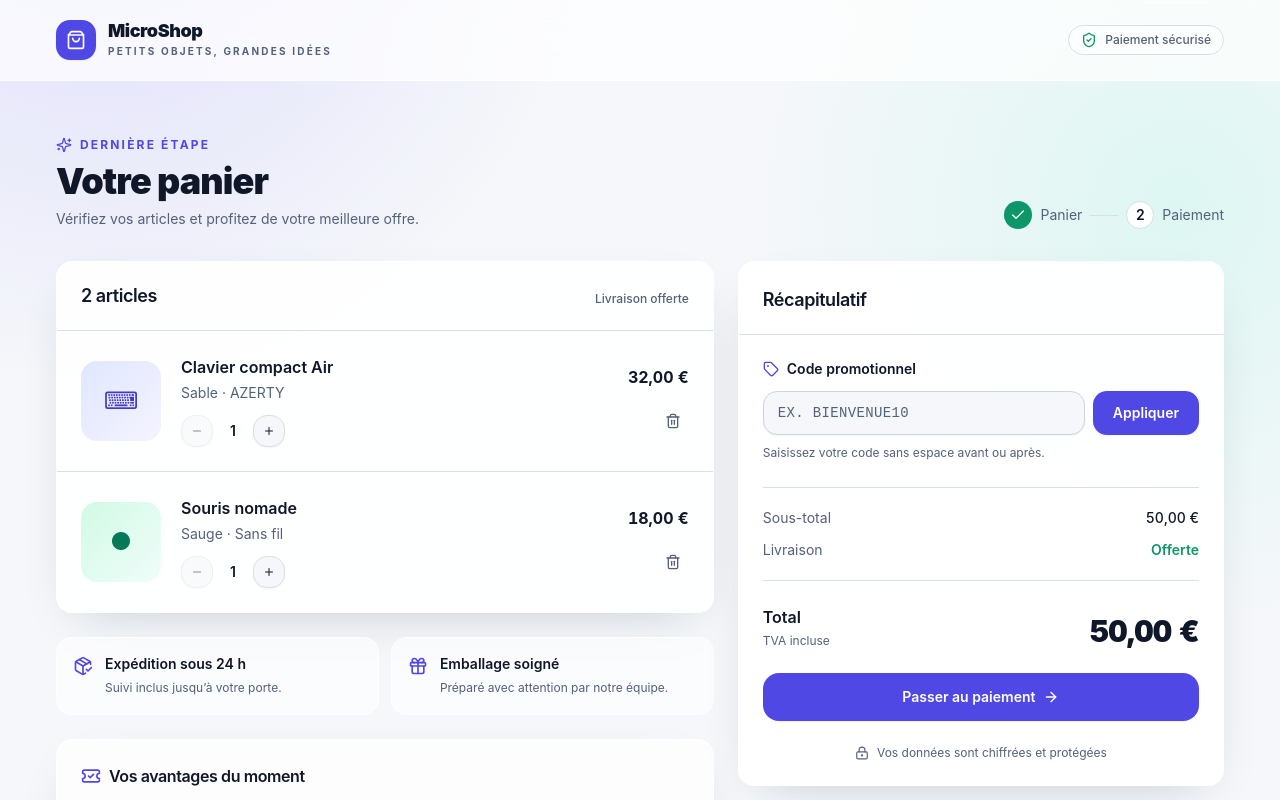
it: gestion des codes promotionnels au panier › conserve le code et les montants actifs quand le second code est expiré
Type "BIENVENUE10" into the field labelled "Code promotionnel" at (924, 413), box [763,391,1085,435]
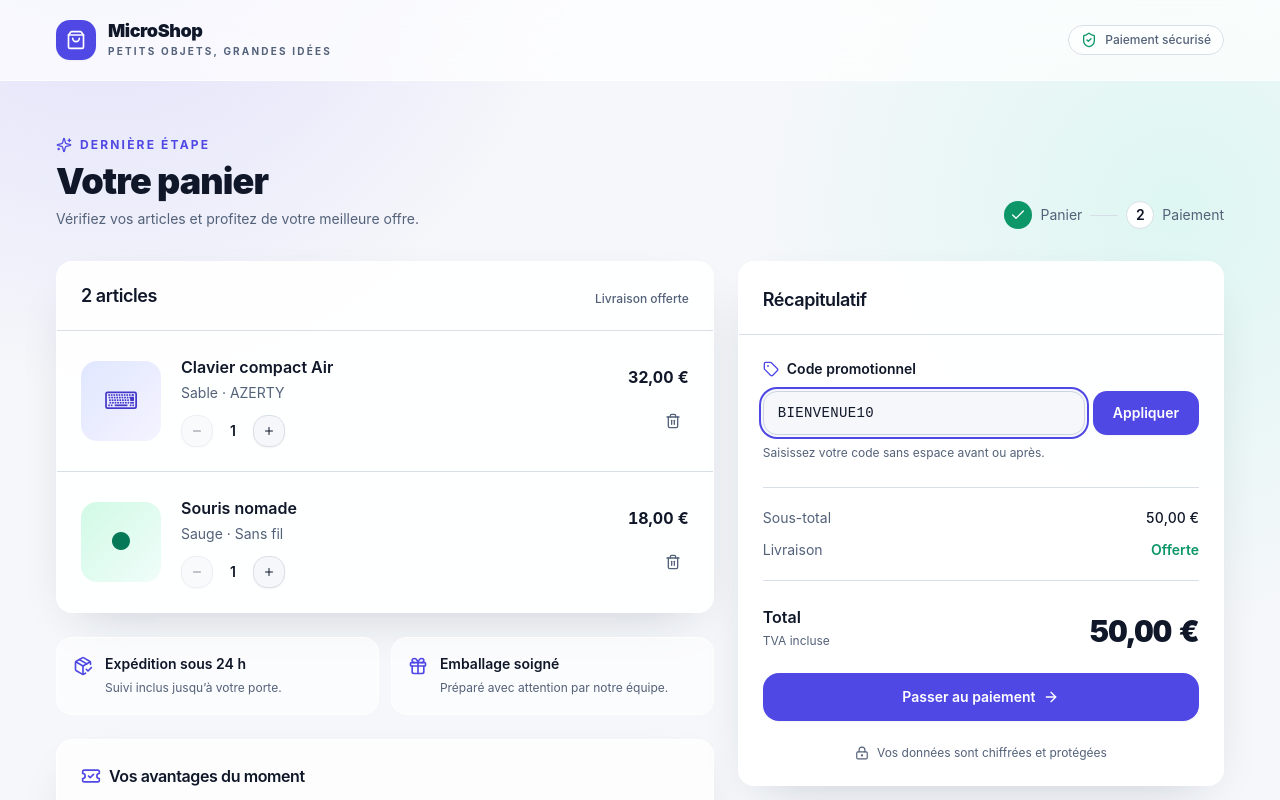
Click the button "Appliquer" at (1146, 413), box [1093,391,1199,435]
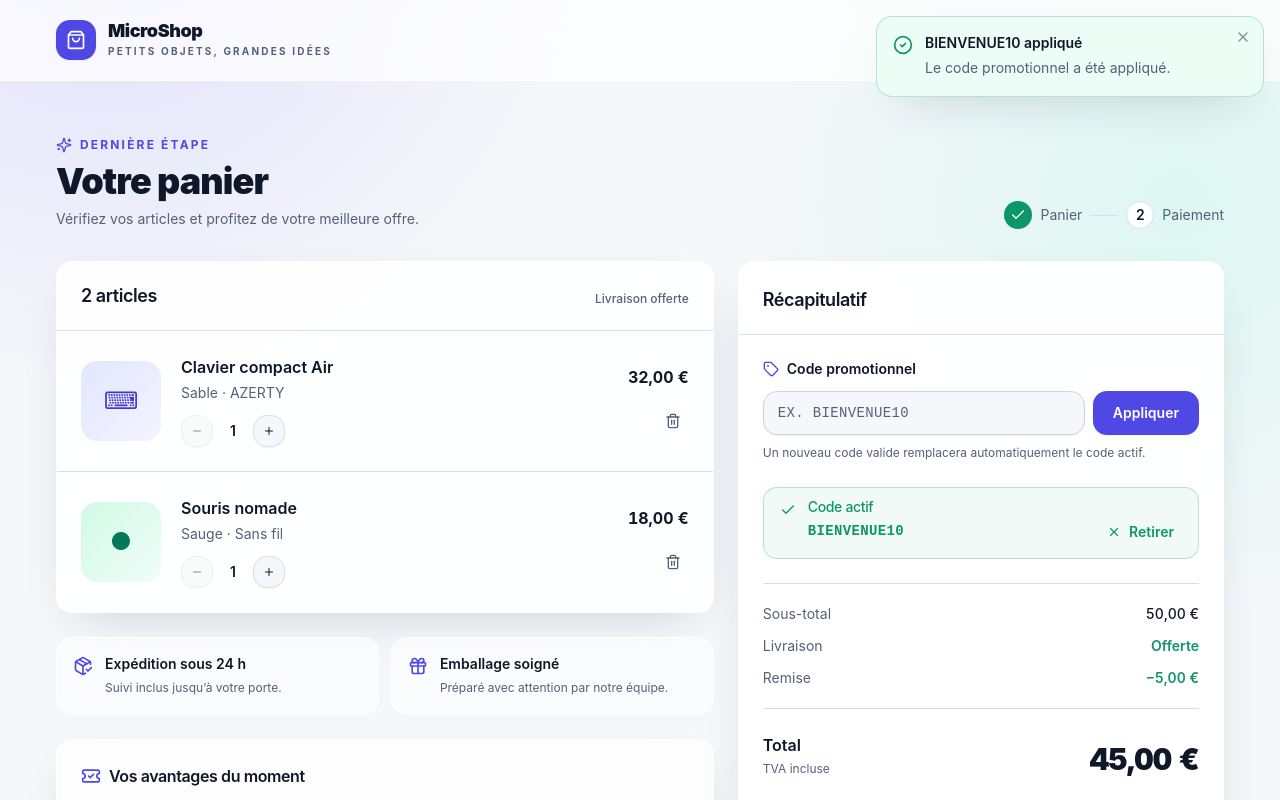
Now the text "BIENVENUE10 appliqué" is shown, box [925,34,1082,51]
Type "ANCIEN20" into the field labelled "Code promotionnel" at (924, 413), box [763,391,1085,435]
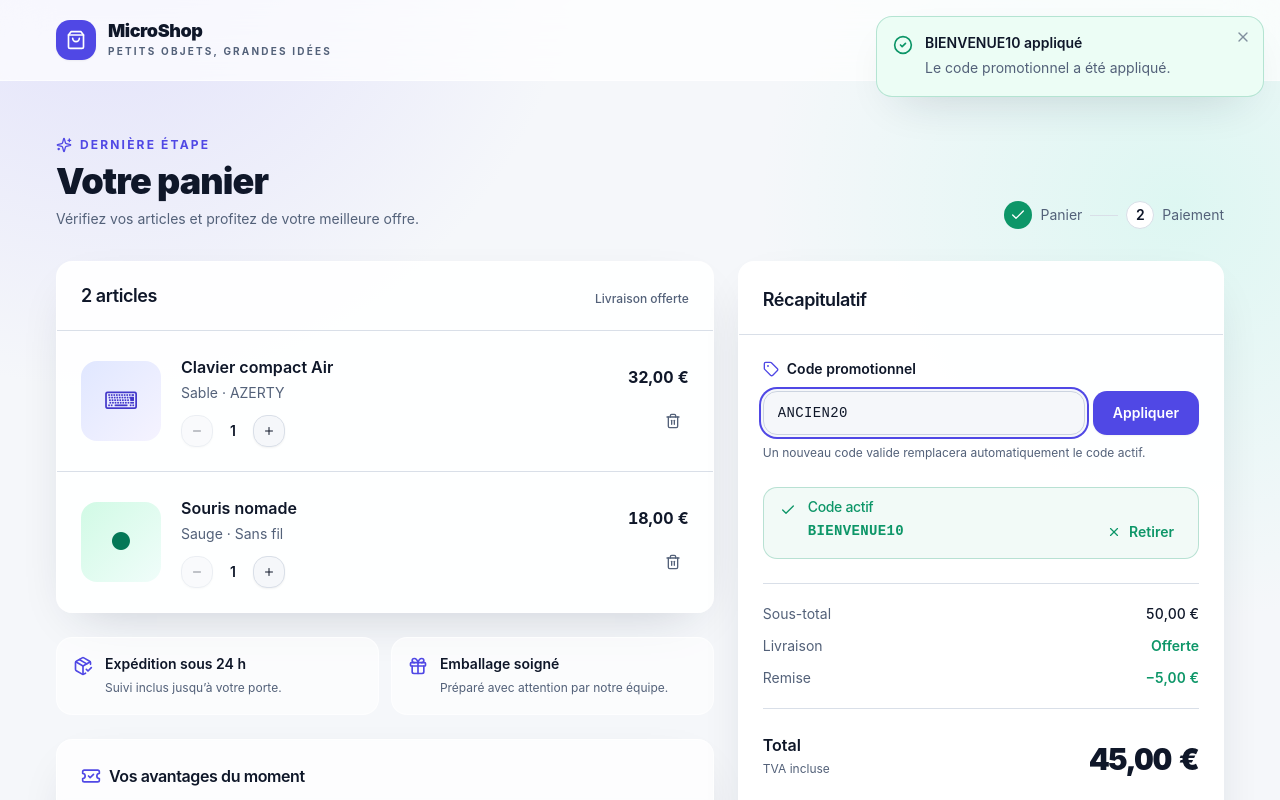
Click the button "Appliquer" at (1146, 413), box [1093,391,1199,435]
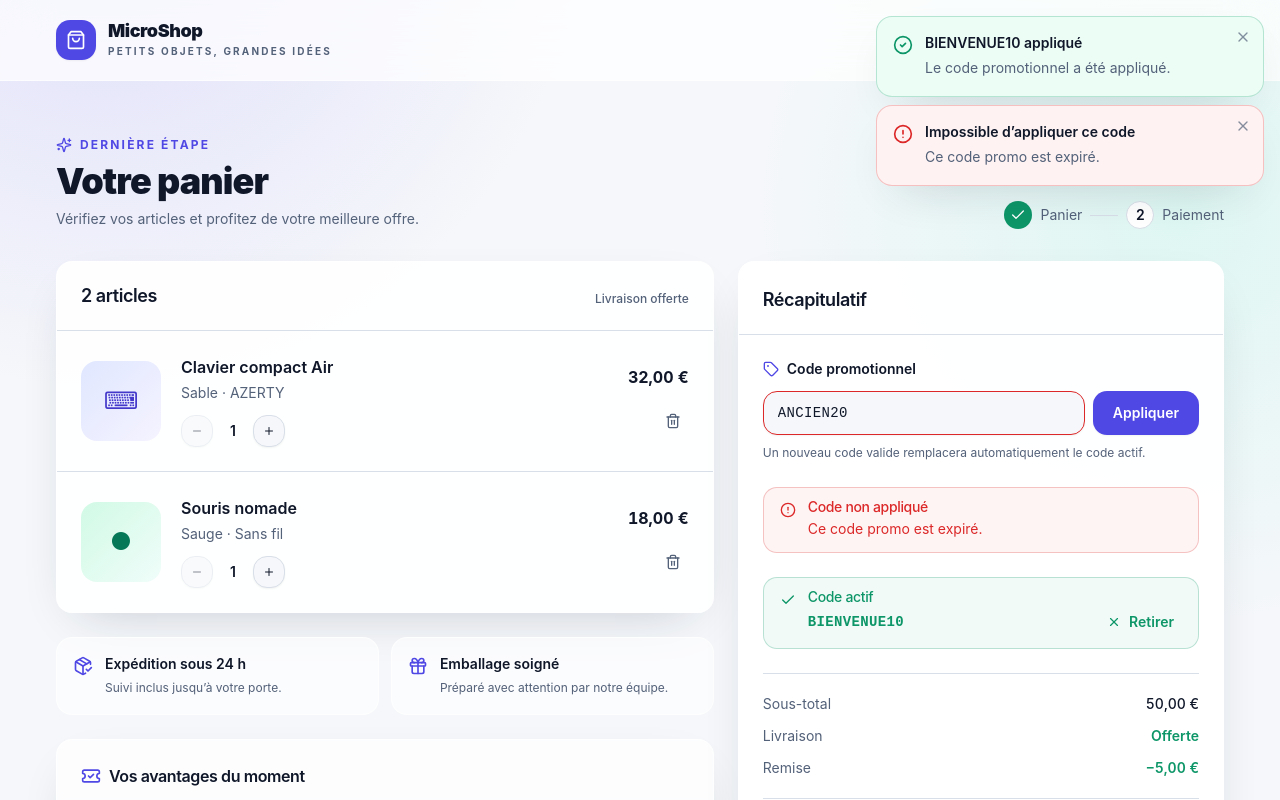
Now the text "BIENVENUE10" is shown, box [808,611,904,634]
Now the element with test id "discount-row" reads "Remise −5,00 €", box [1155,759,1199,776]
Now the text "Code non appliqué" shows "Ce code promo est expiré.", box [808,520,983,536]
